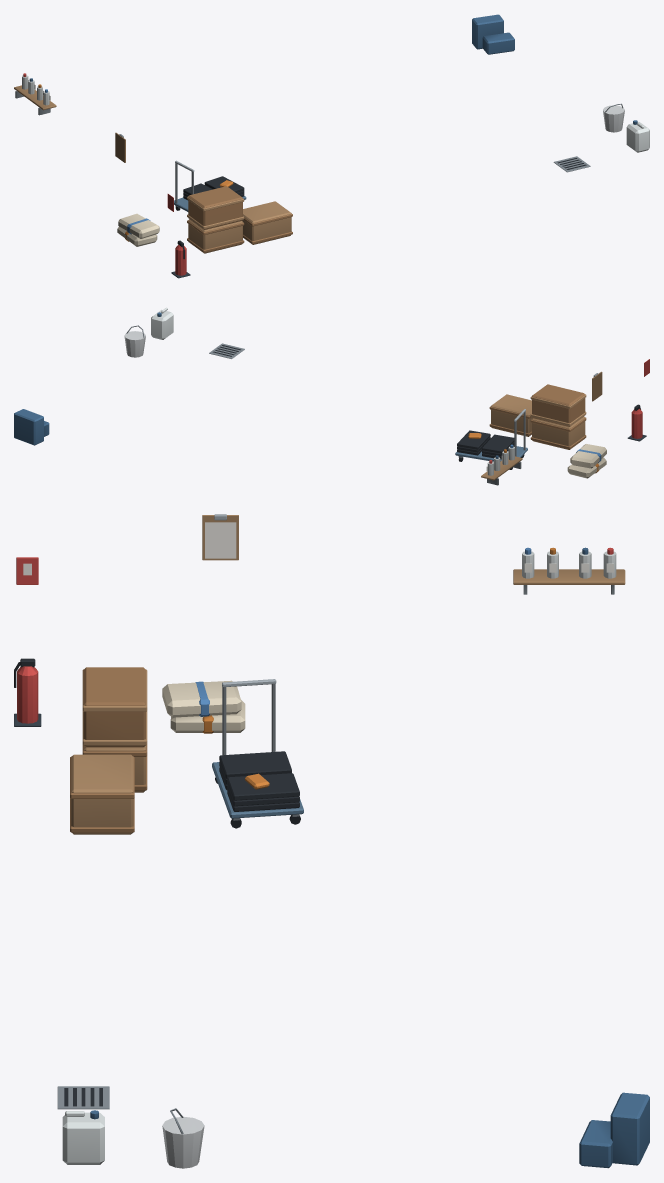
File: room_props.glb
3 views of the same model, one above another, from view 1: azimuth 30°, elevation 25°; view 2: azimuth 150°, elevation 25°; view 3: azimuth 270°, elevation 25° (orthographic). The views are drawn at different scales.
Visible parts, largest first — view 1: room_props; view 2: room_props; view 3: room_props.
Part boxes in pixels (x1=…): room_props: x1=14, y1=14, x2=649, y2=278; room_props: x1=14, y1=307, x2=649, y2=485; room_props: x1=14, y1=514, x2=649, y2=1168.
Size of the model in its own units: 8.74 by 1.76 by 5.11.
1 material, 1 textured.
